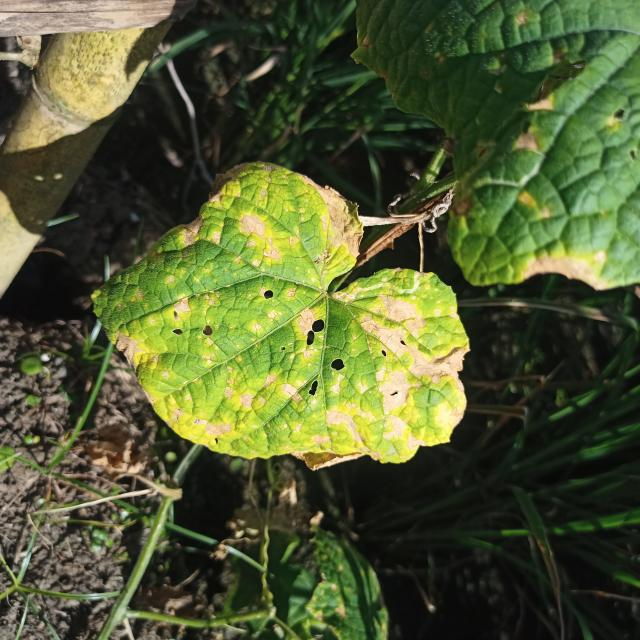disease_cucumber: (113, 162, 464, 477)
